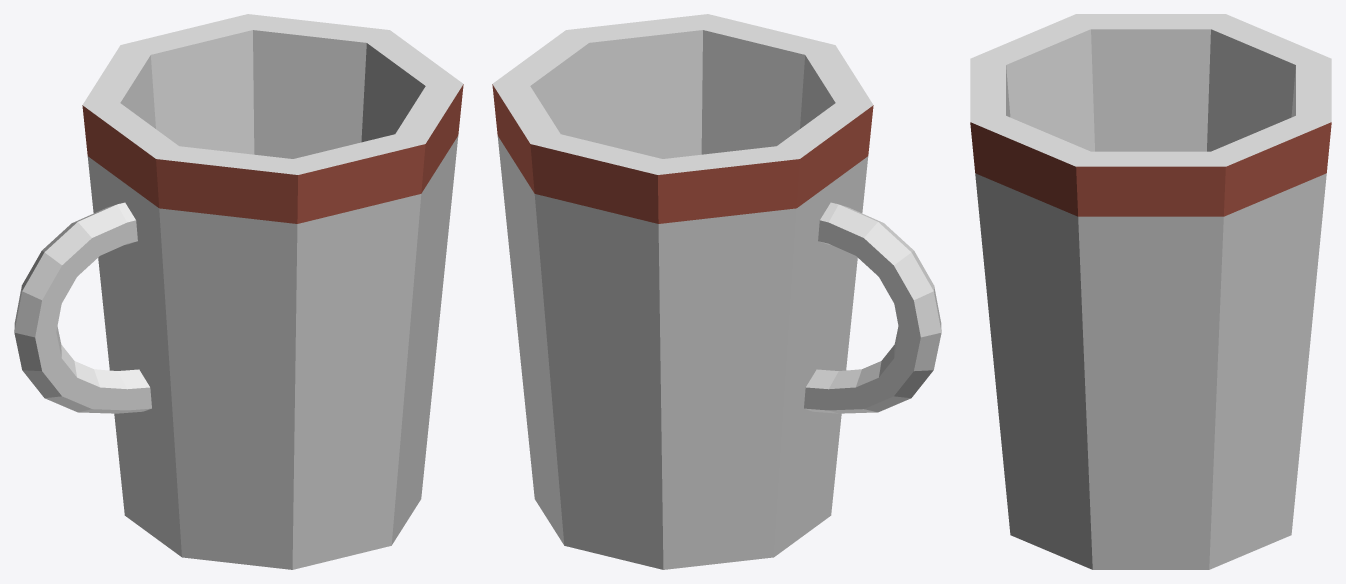
The model's file is Cup2_C3.fbx.
3 renders of one model, left to right at view 1: azimuth 30°, elevation 25°; view 2: azimuth 150°, elevation 25°; view 3: azimuth 270°, elevation 25°, orthographic.
Visible parts, largest first — view 1: Cup2_C3; view 2: Cup2_C3; view 3: Cup2_C3.
Part boxes in pixels (x1,y1,x2,y2): Cup2_C3: (14,14,463,569); Cup2_C3: (492,14,941,569); Cup2_C3: (970,14,1331,569).
Size of the model in its own units: 12.45 by 11.91 by 9.29.
